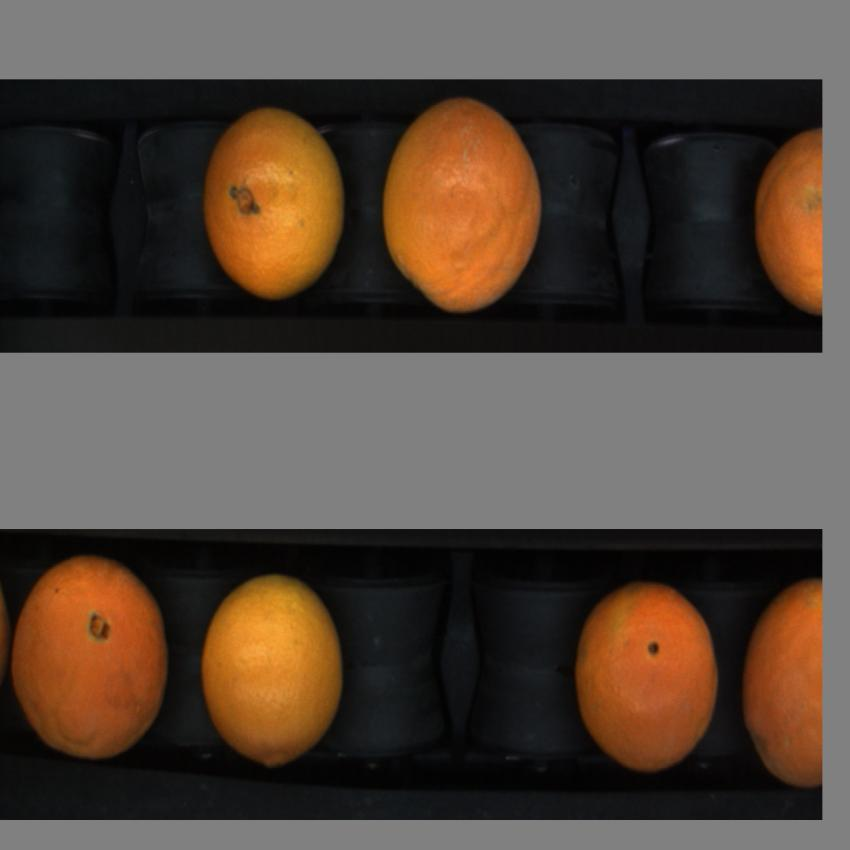Buen estado: (380, 92, 545, 322), (194, 566, 347, 780), (199, 104, 347, 312), (573, 574, 722, 778), (742, 570, 824, 795), (750, 114, 823, 327)
Mal estado: (9, 545, 172, 775)
